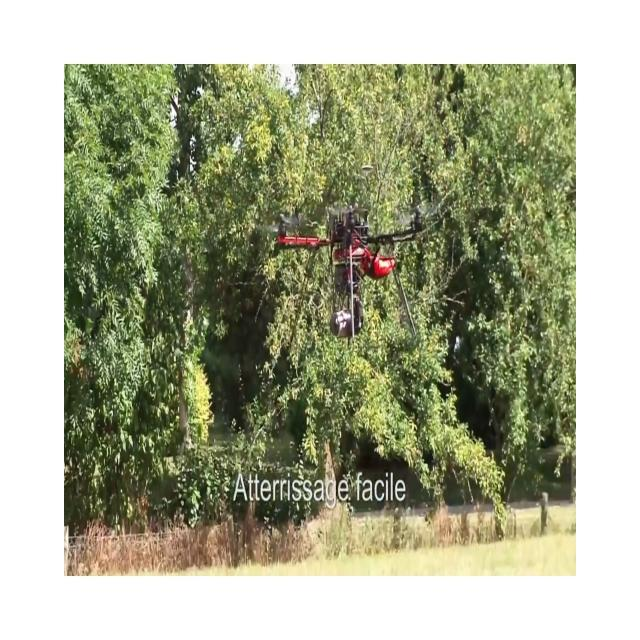drone: (256, 164, 443, 344)
